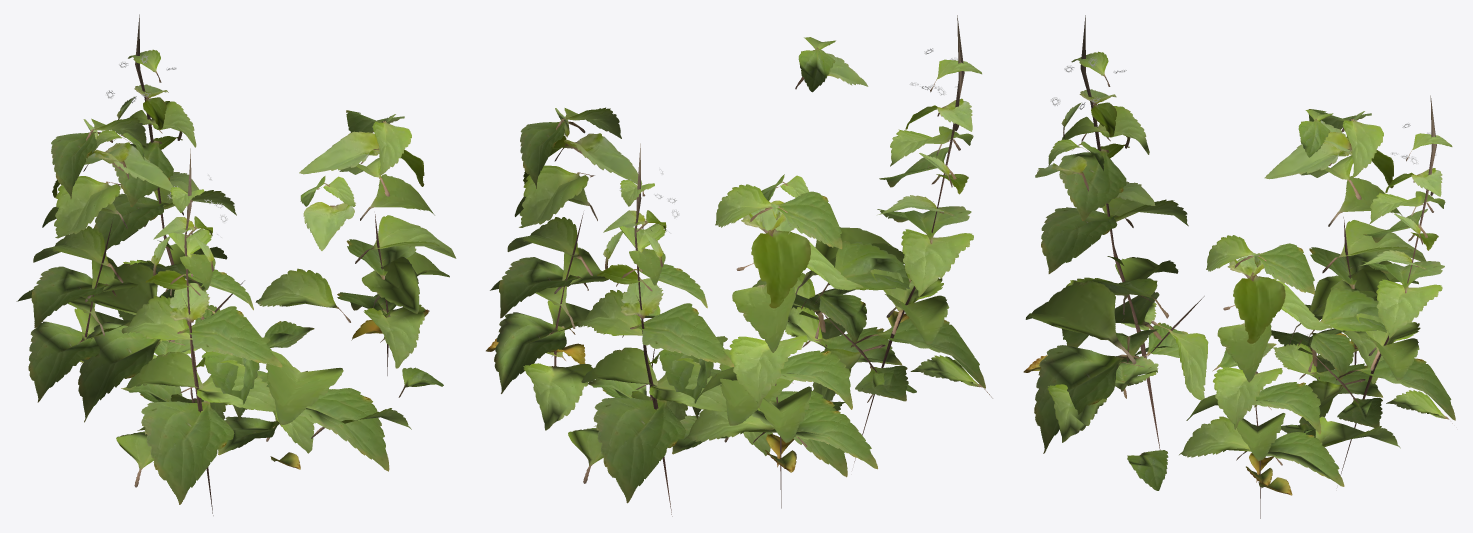
Rendered from veg-shrub-a-c6772a9e7104.glb.
3 views of the same model, side by side, from view 1: azimuth 30°, elevation 25°; view 2: azimuth 150°, elevation 25°; view 3: azimuth 270°, elevation 25° (orthographic). The views are drawn at different scales.
Visible parts, largest first — view 1: veg-shrub-a; view 2: veg-shrub-a; view 3: veg-shrub-a.
Boxes of the visible parts, x1,y1,x2,y2 form: veg-shrub-a: (16, 14, 456, 515); veg-shrub-a: (486, 15, 992, 516); veg-shrub-a: (1023, 15, 1455, 518).
Bounding box in the file's own units: 0.8927 × 0.9 × 0.8566.
Materials: 1 (1 with a texture image).
